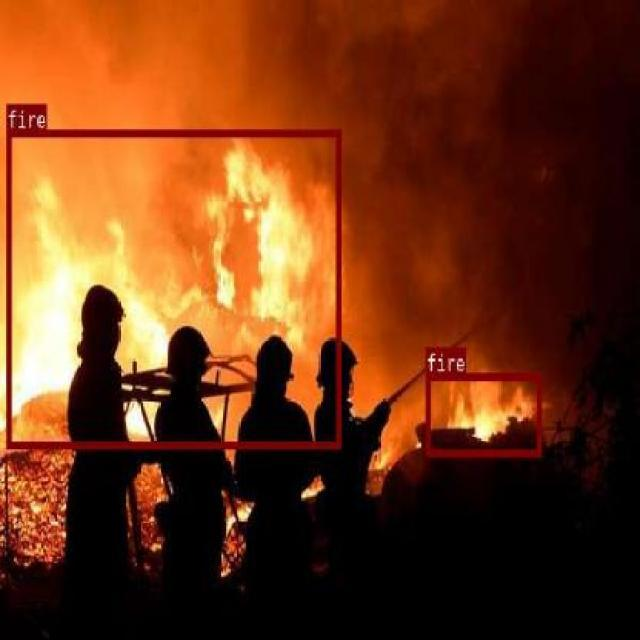fire: (4, 128, 340, 447), (424, 372, 540, 456)
